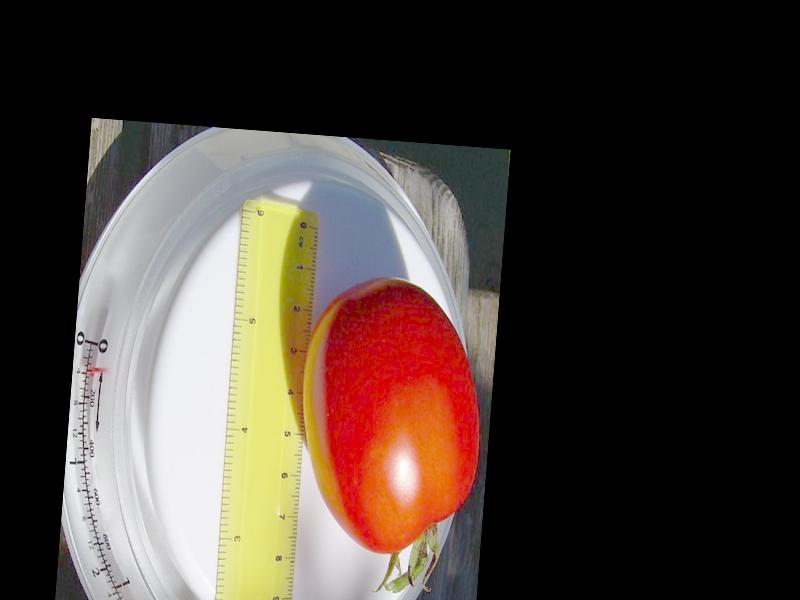Tomato: (286, 273, 492, 562)
